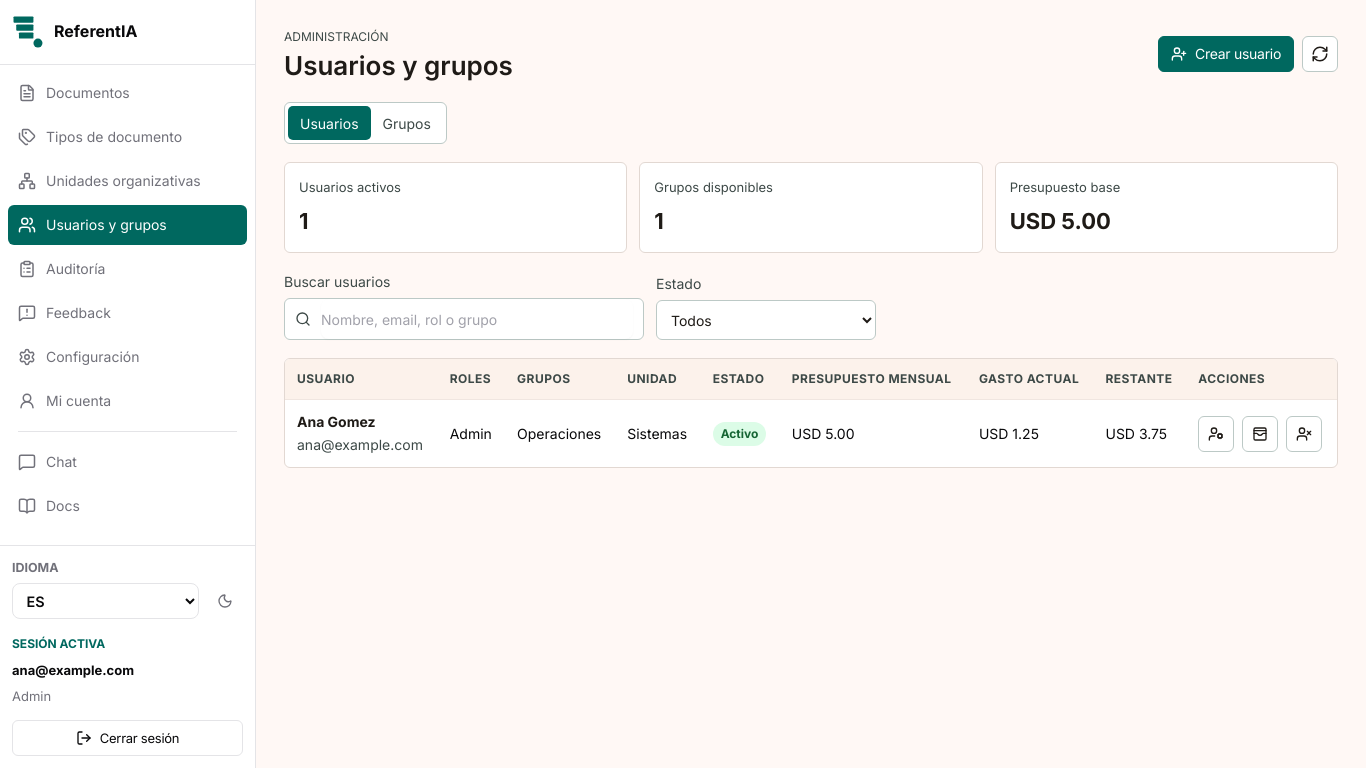
Test: management documents › switches the document workspace static copy to English
This screenshot has width=1366, height=768.
Select "EN" in the dropdown labelled "Idioma" at (106, 601), box [12, 583, 199, 619]
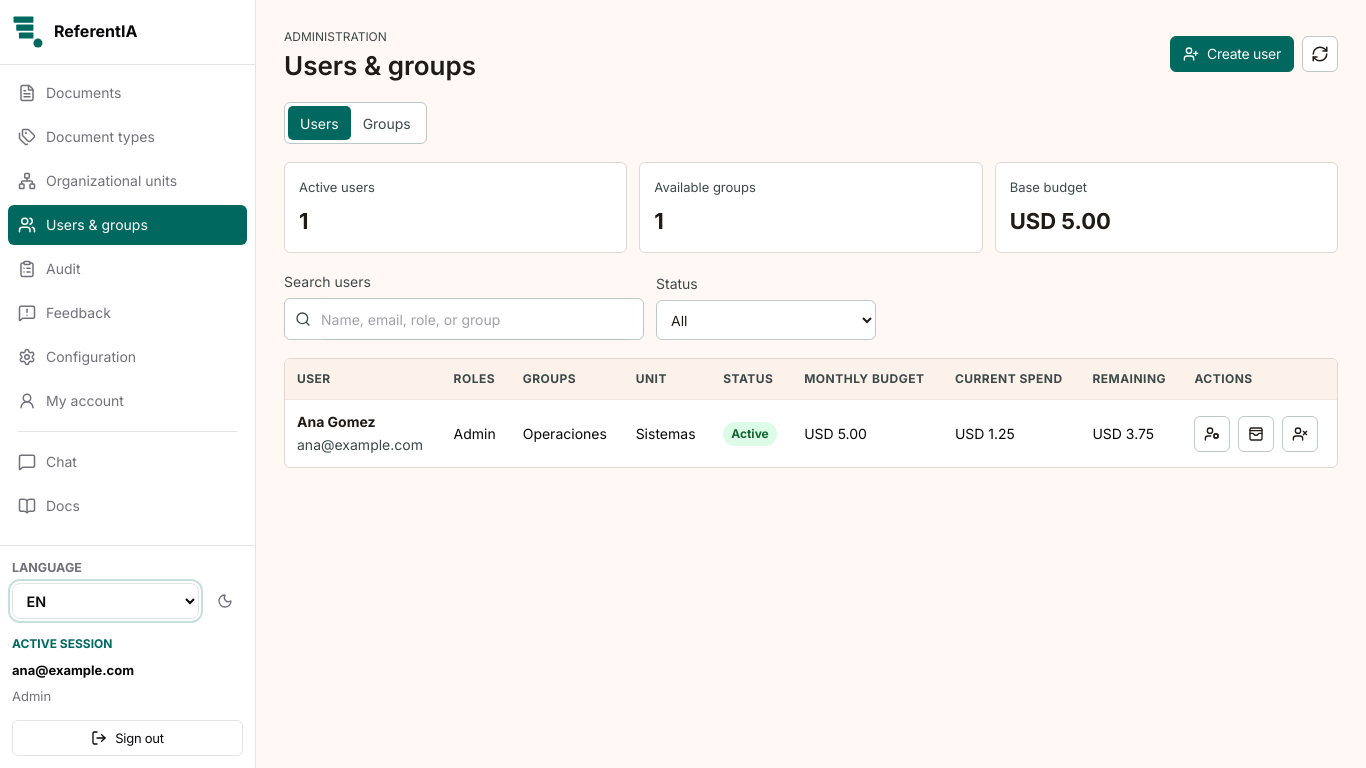
Click the link "Documents".
click(70, 93)  # box [18, 84, 121, 102]
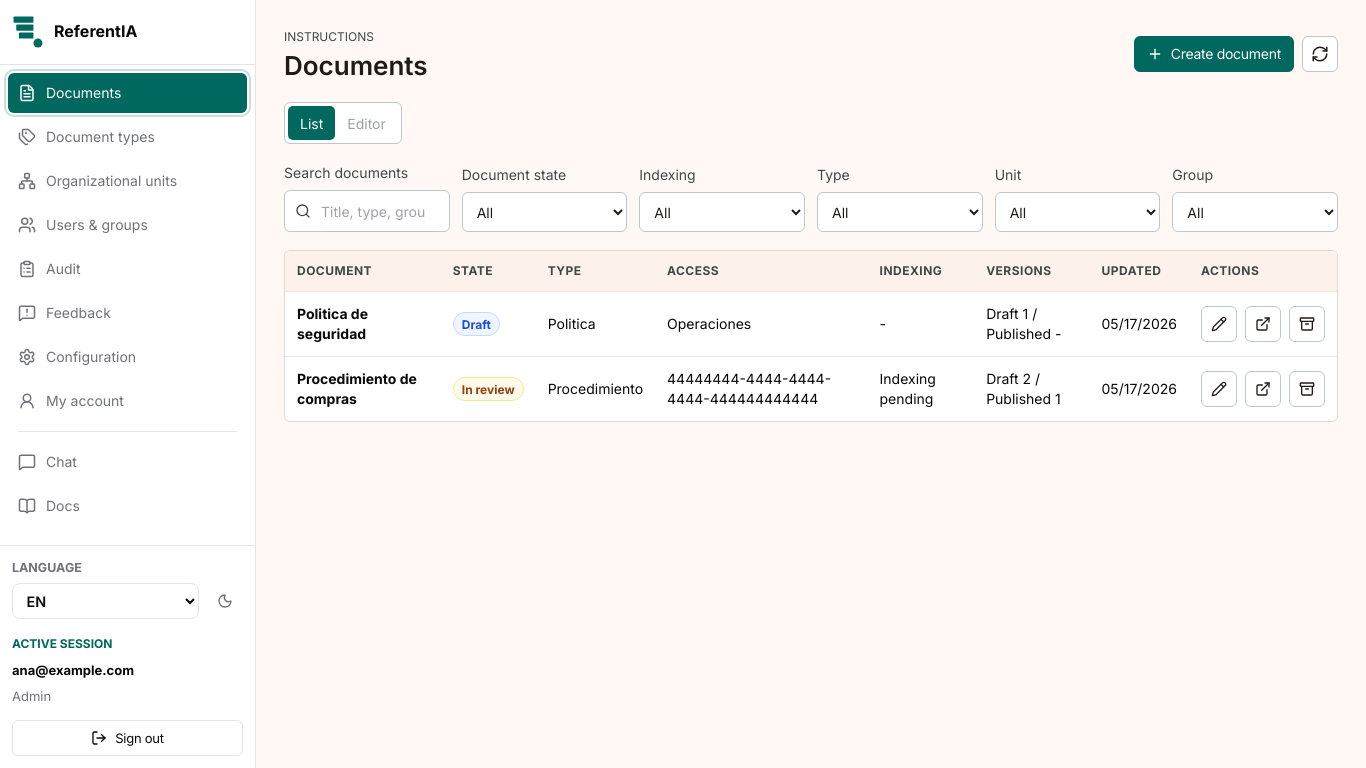
Expected: the heading "Documents" is shown, [284, 51, 428, 80]
Expected: the element named "Document filters" is shown, [284, 162, 1338, 232]
Expected: the text "Indexing pending" is shown, [868, 357, 974, 421]
